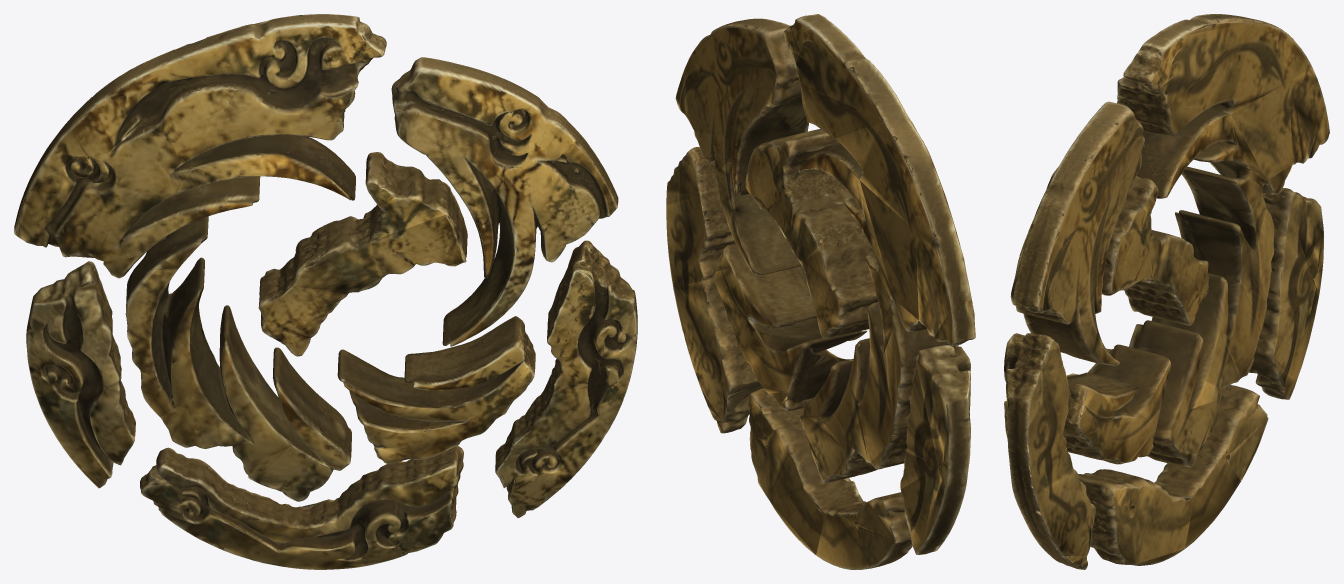
The model's file is 14-sunbird-fragment.glb.
3 renders of one model, left to right at view 1: azimuth 30°, elevation 25°; view 2: azimuth 150°, elevation 25°; view 3: azimuth 270°, elevation 25°, orthographic. The views are drawn at different scales.
Parts seen in each view (by area): view 1: Meshy_AI_Fractured_Golden_Reli_0817195200_texture; view 2: Meshy_AI_Fractured_Golden_Reli_0817195200_texture; view 3: Meshy_AI_Fractured_Golden_Reli_0817195200_texture.
Part boxes in pixels (<box>): Meshy_AI_Fractured_Golden_Reli_0817195200_texture: <box>14,14,637,569</box>; Meshy_AI_Fractured_Golden_Reli_0817195200_texture: <box>666,14,975,569</box>; Meshy_AI_Fractured_Golden_Reli_0817195200_texture: <box>1004,14,1329,569</box>.
Size of the model in its own units: 0.6023 by 0.6682 by 0.3815.
Materials: 1 (1 with a texture image).
